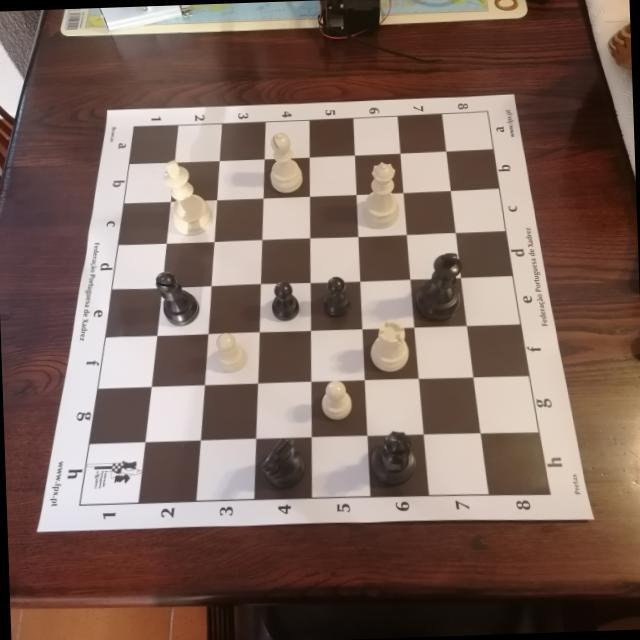black-bishop: (153, 269, 200, 327)
black-king: (415, 250, 465, 322)
black-knight: (258, 435, 306, 490)
black-pawn: (270, 278, 300, 321), (321, 275, 350, 317)
black-queen: (368, 428, 417, 487)
white-bishop: (267, 129, 305, 194)
white-king: (161, 157, 215, 237)
white-pawn: (214, 330, 248, 373), (319, 379, 353, 421)
white-queen: (359, 160, 400, 230)
white-rook: (368, 319, 410, 373)
